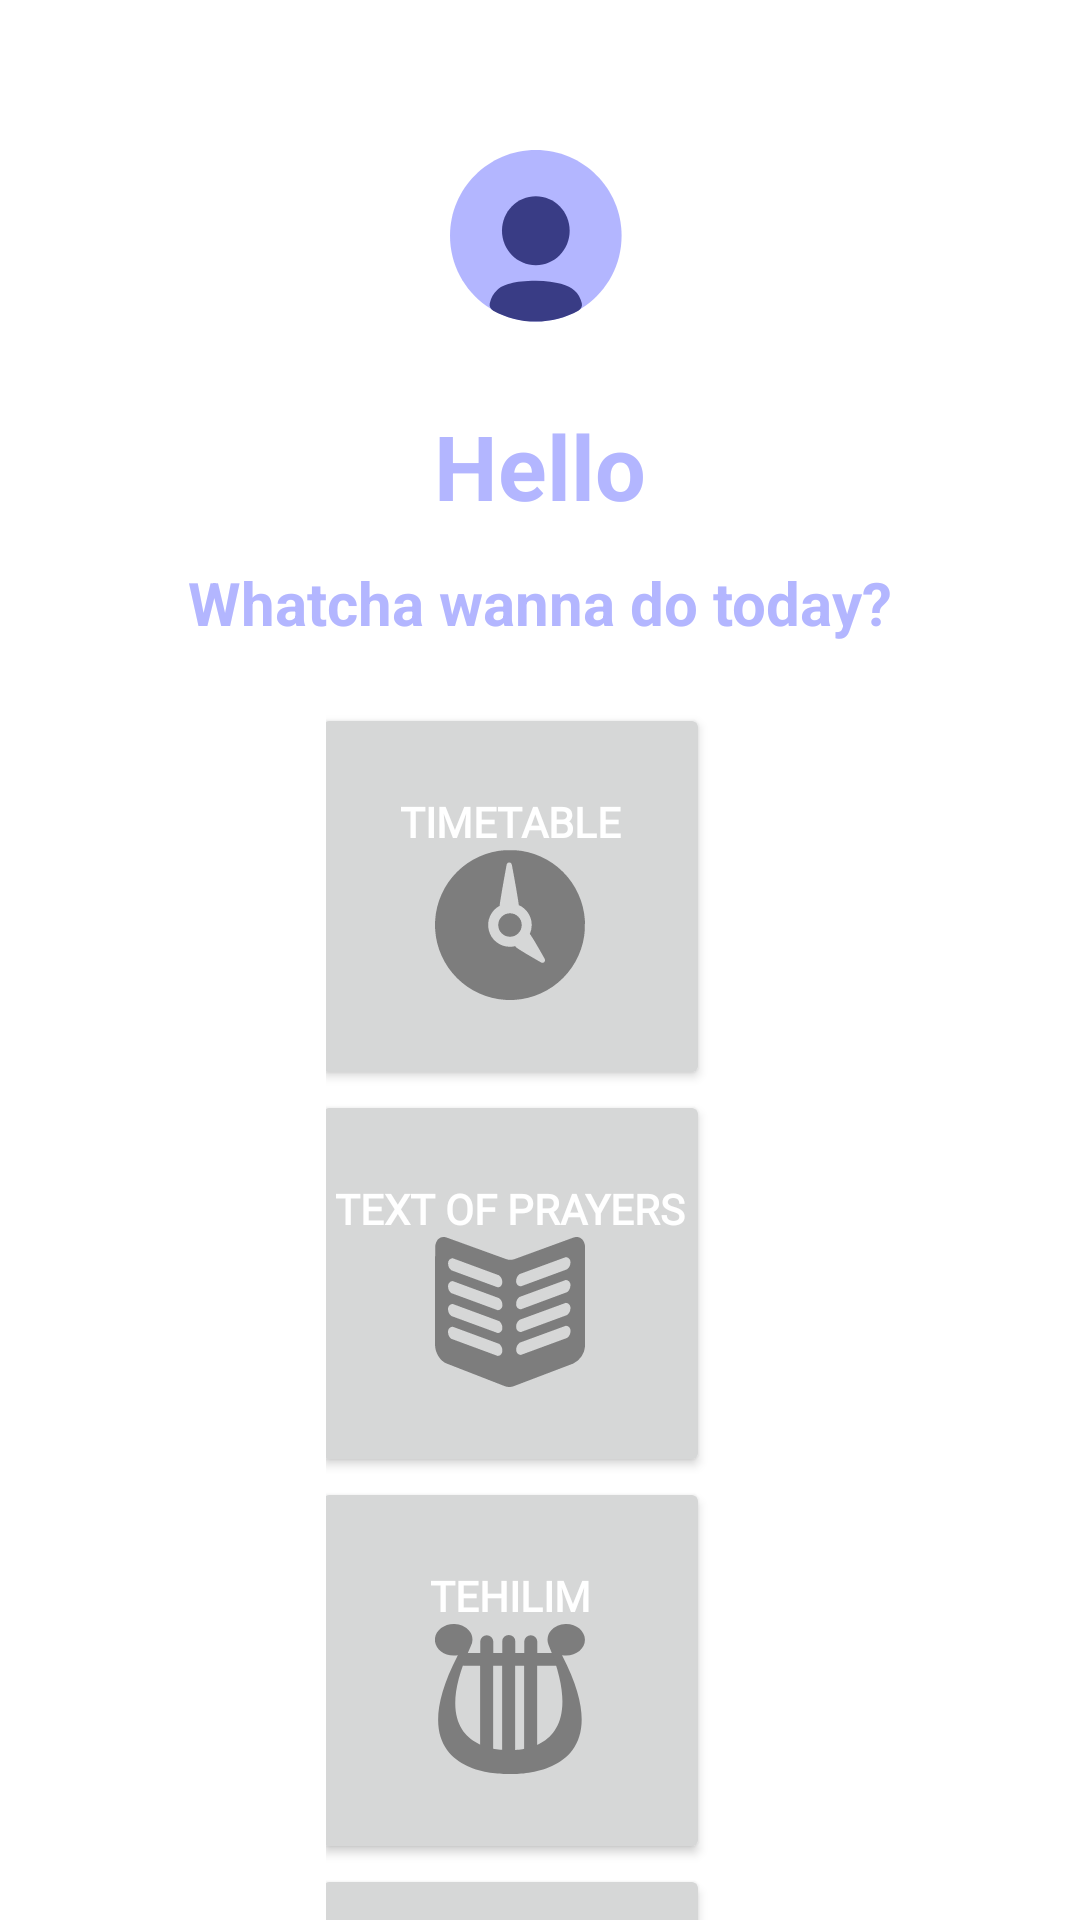

Icon click points for this 1080 × 1920 phone screenshot, format (x=x, y=y):
profile photo: (x=536, y=236)
